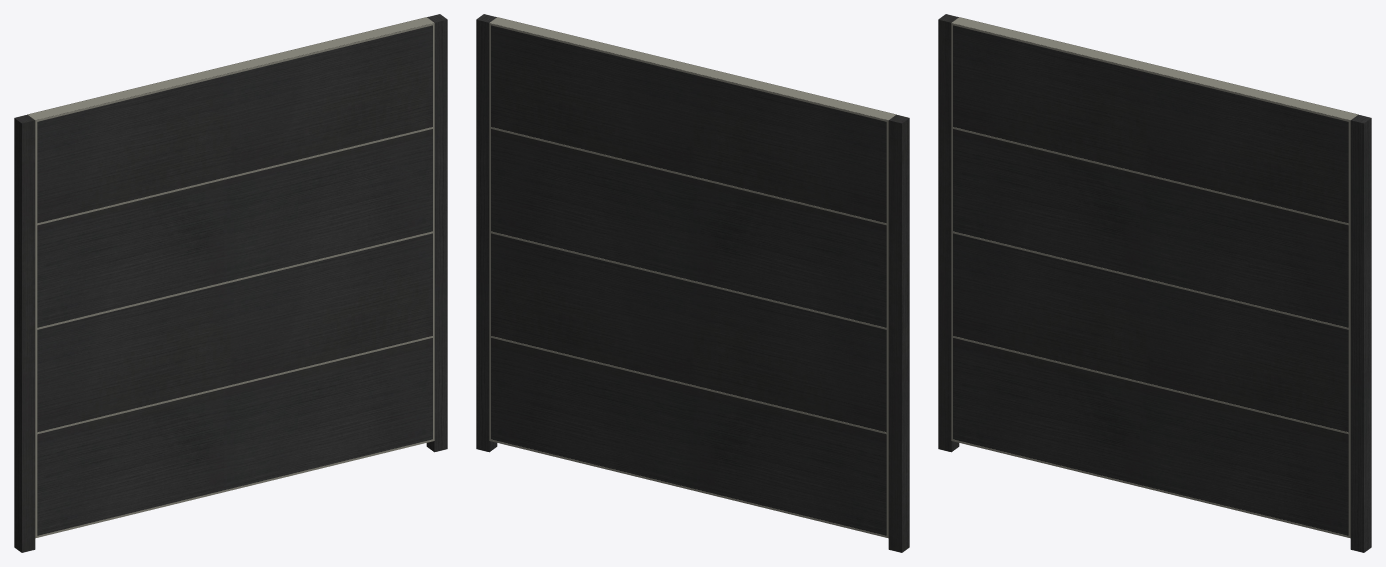
File: ABF1-H1800_charcoalgrey.fbx
3 renders of one model, left to right at view 1: azimuth 30°, elevation 25°; view 2: azimuth 150°, elevation 25°; view 3: azimuth 330°, elevation 25°, orthographic.
Parts seen in each view (by area): view 1: 1850-1920-60_charcoal gray; view 2: 1850-1920-60_charcoal gray; view 3: 1850-1920-60_charcoal gray.
Boxes of the visible parts, box(x1,y1,x2,y2) form: 1850-1920-60_charcoal gray: box(14, 14, 447, 552); 1850-1920-60_charcoal gray: box(476, 14, 909, 552); 1850-1920-60_charcoal gray: box(938, 14, 1371, 552).
Size of the model in its own units: 192 by 185 by 6.4.
4 materials, 3 textured.
